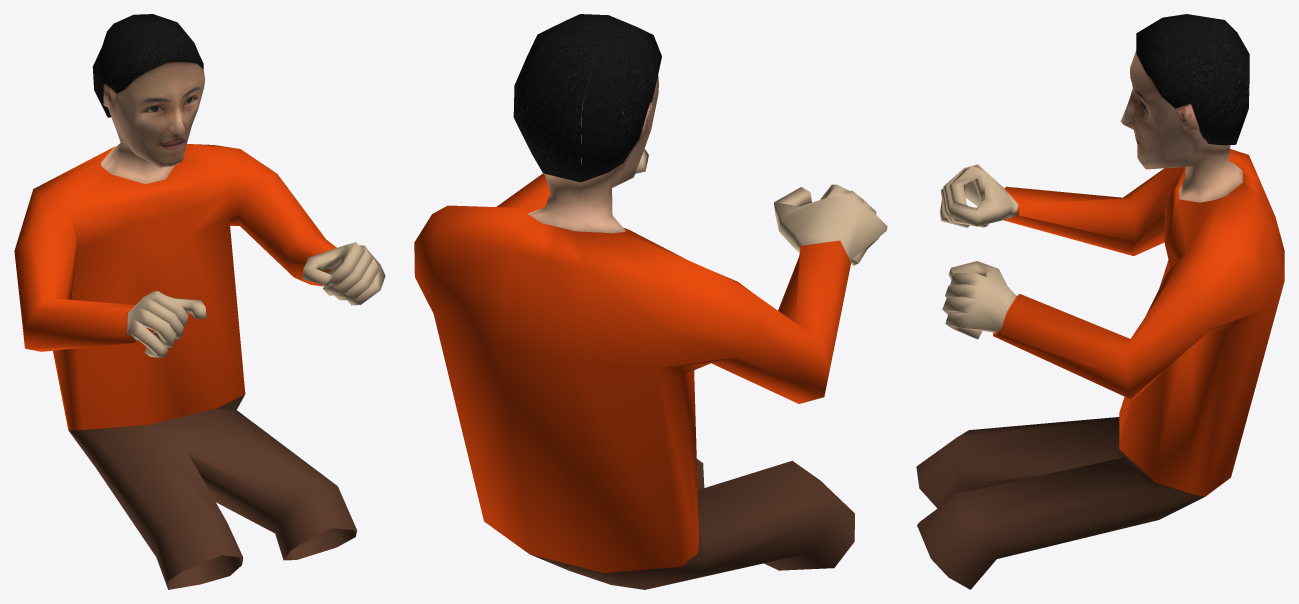
The model's file is Driver.fbx.
The picture shows the model from 3 angles, left to right: view 1: azimuth 30°, elevation 25°; view 2: azimuth 150°, elevation 25°; view 3: azimuth 270°, elevation 25°; orthographic projection. The views are drawn at different scales.
Visible parts, largest first — view 1: Driver; view 2: Driver; view 3: Driver.
Boxes of the visible parts, bbox=[...] form: Driver: bbox=[14, 14, 385, 589]; Driver: bbox=[414, 14, 887, 589]; Driver: bbox=[916, 14, 1284, 589].
Bounding box in the file's own units: 74.33 × 110 × 69.3.
